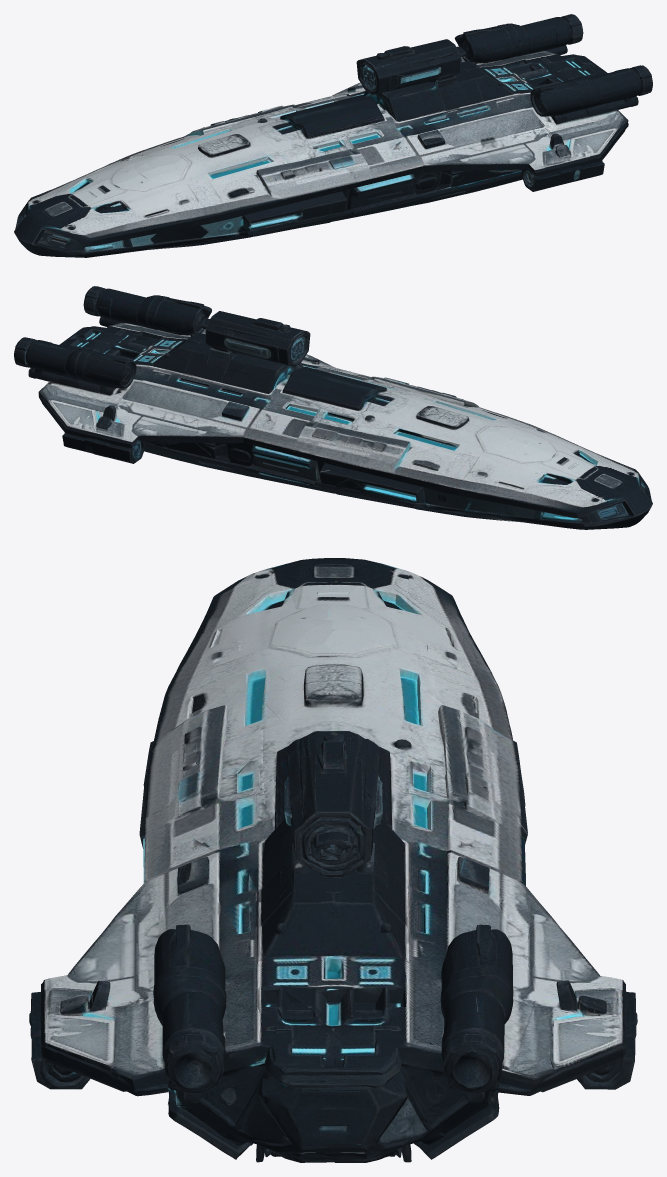
The model's file is s_frigate.glb.
3 views of the same model, one above another, from view 1: azimuth 30°, elevation 25°; view 2: azimuth 150°, elevation 25°; view 3: azimuth 270°, elevation 25° (orthographic). The views are drawn at different scales.
Parts seen in each view (by area): view 1: mesh_0; view 2: mesh_0; view 3: mesh_0.
Part boxes in pixels (x1,y1,x2,y2): mesh_0: (14, 14, 652, 257); mesh_0: (14, 286, 652, 529); mesh_0: (29, 558, 637, 1162).
Size of the model in its own units: 1.9 by 0.4348 by 0.8453.
1 material, 1 textured.
